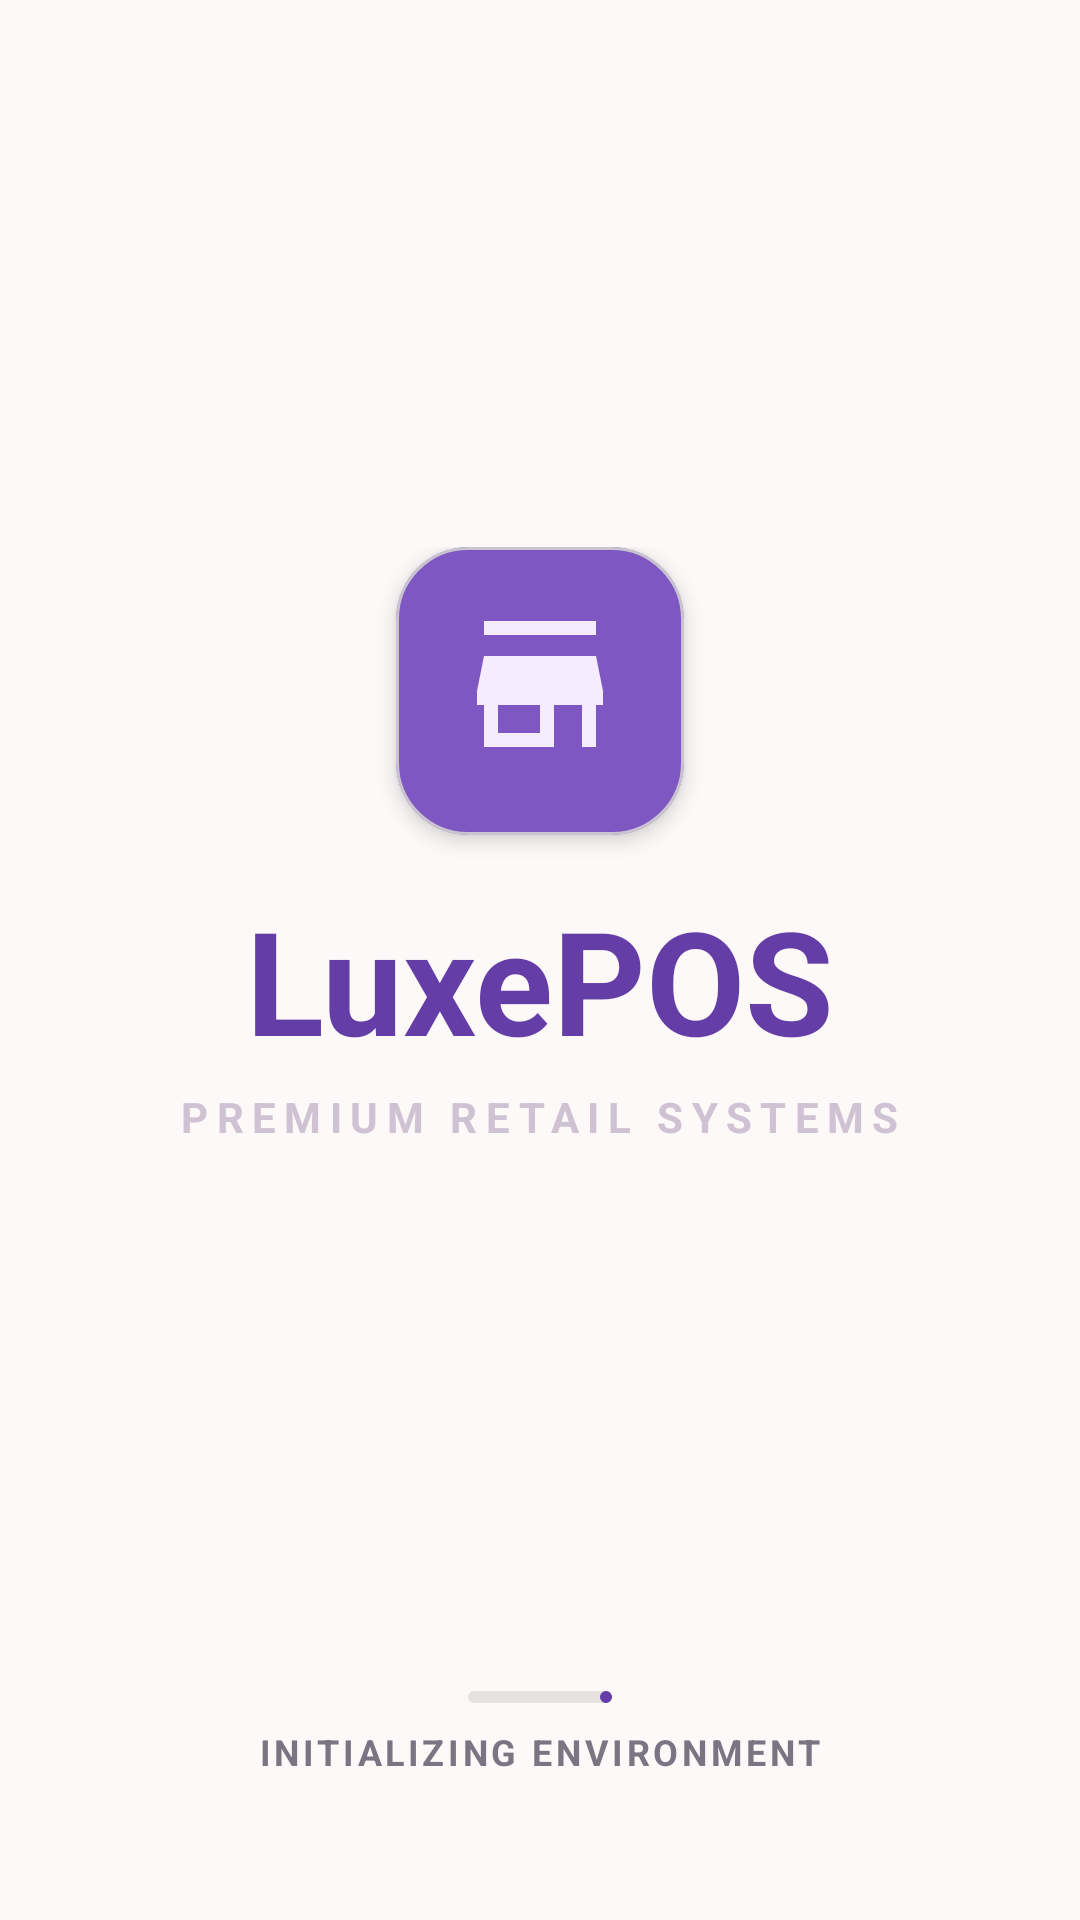

Where to tap for icons on this 1080*1920 app screen, as (x=x, y=y):
store: (x=540, y=691)
